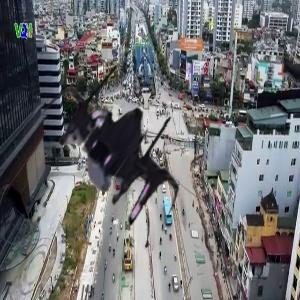drone: (28, 64, 203, 239)
